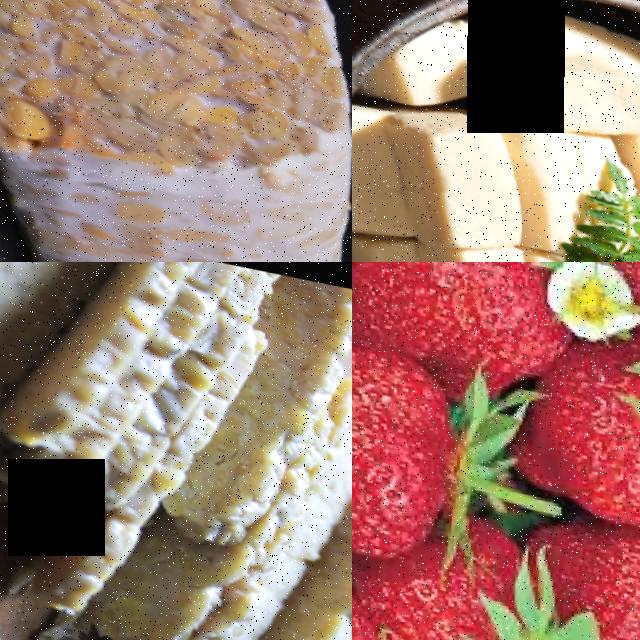strawberry: (495, 332, 640, 520), (352, 262, 568, 381), (352, 329, 457, 563), (499, 498, 640, 640)
tempeh: (0, 0, 352, 262), (161, 262, 352, 564), (0, 262, 87, 488), (70, 529, 234, 640), (215, 554, 352, 640)
tofu: (382, 96, 532, 253), (482, 32, 640, 147), (378, 4, 494, 118), (352, 102, 393, 243), (412, 234, 559, 262), (352, 233, 437, 262)
